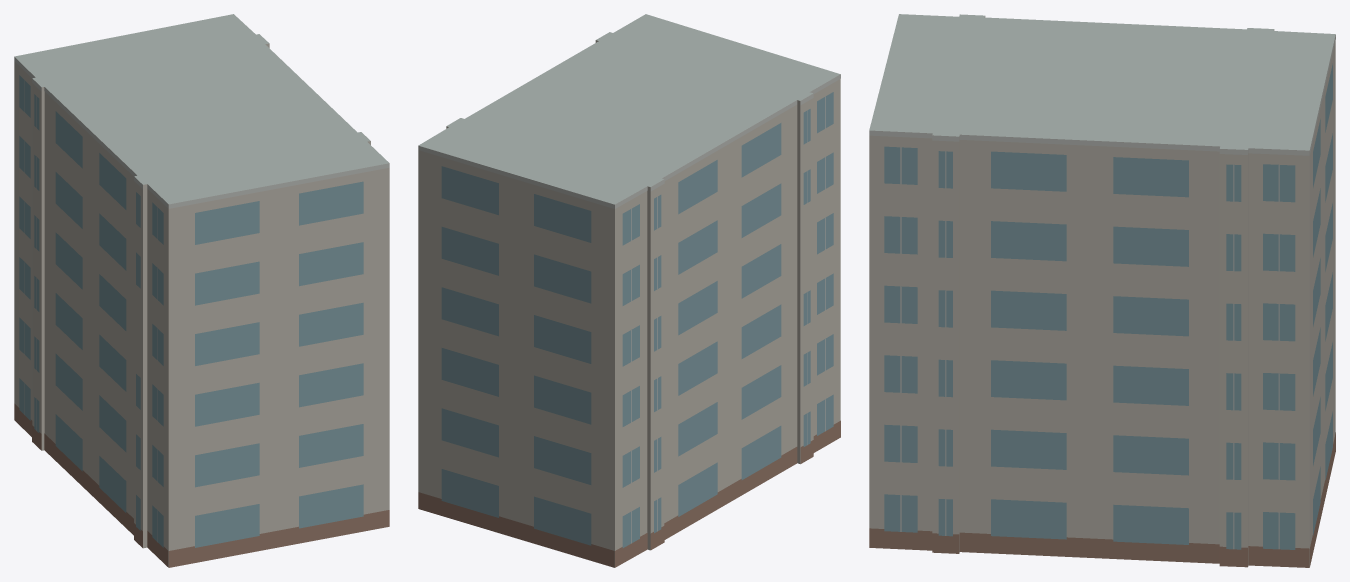
Rendered from survey-upis-32658327.glb.
3 renders of one model, left to right at view 1: azimuth 30°, elevation 25°; view 2: azimuth 150°, elevation 25°; view 3: azimuth 270°, elevation 25°, orthographic. The views are drawn at different scales.
Visible parts, largest first — view 1: survey-upis-32658327.tmp; view 2: survey-upis-32658327.tmp; view 3: survey-upis-32658327.tmp.
Part boxes in pixels (<box>): survey-upis-32658327.tmp: <box>14,14,389,567</box>; survey-upis-32658327.tmp: <box>418,14,840,567</box>; survey-upis-32658327.tmp: <box>869,14,1335,567</box>.
Bounding box in the file's own units: 13.95 × 19.85 × 20.13.
